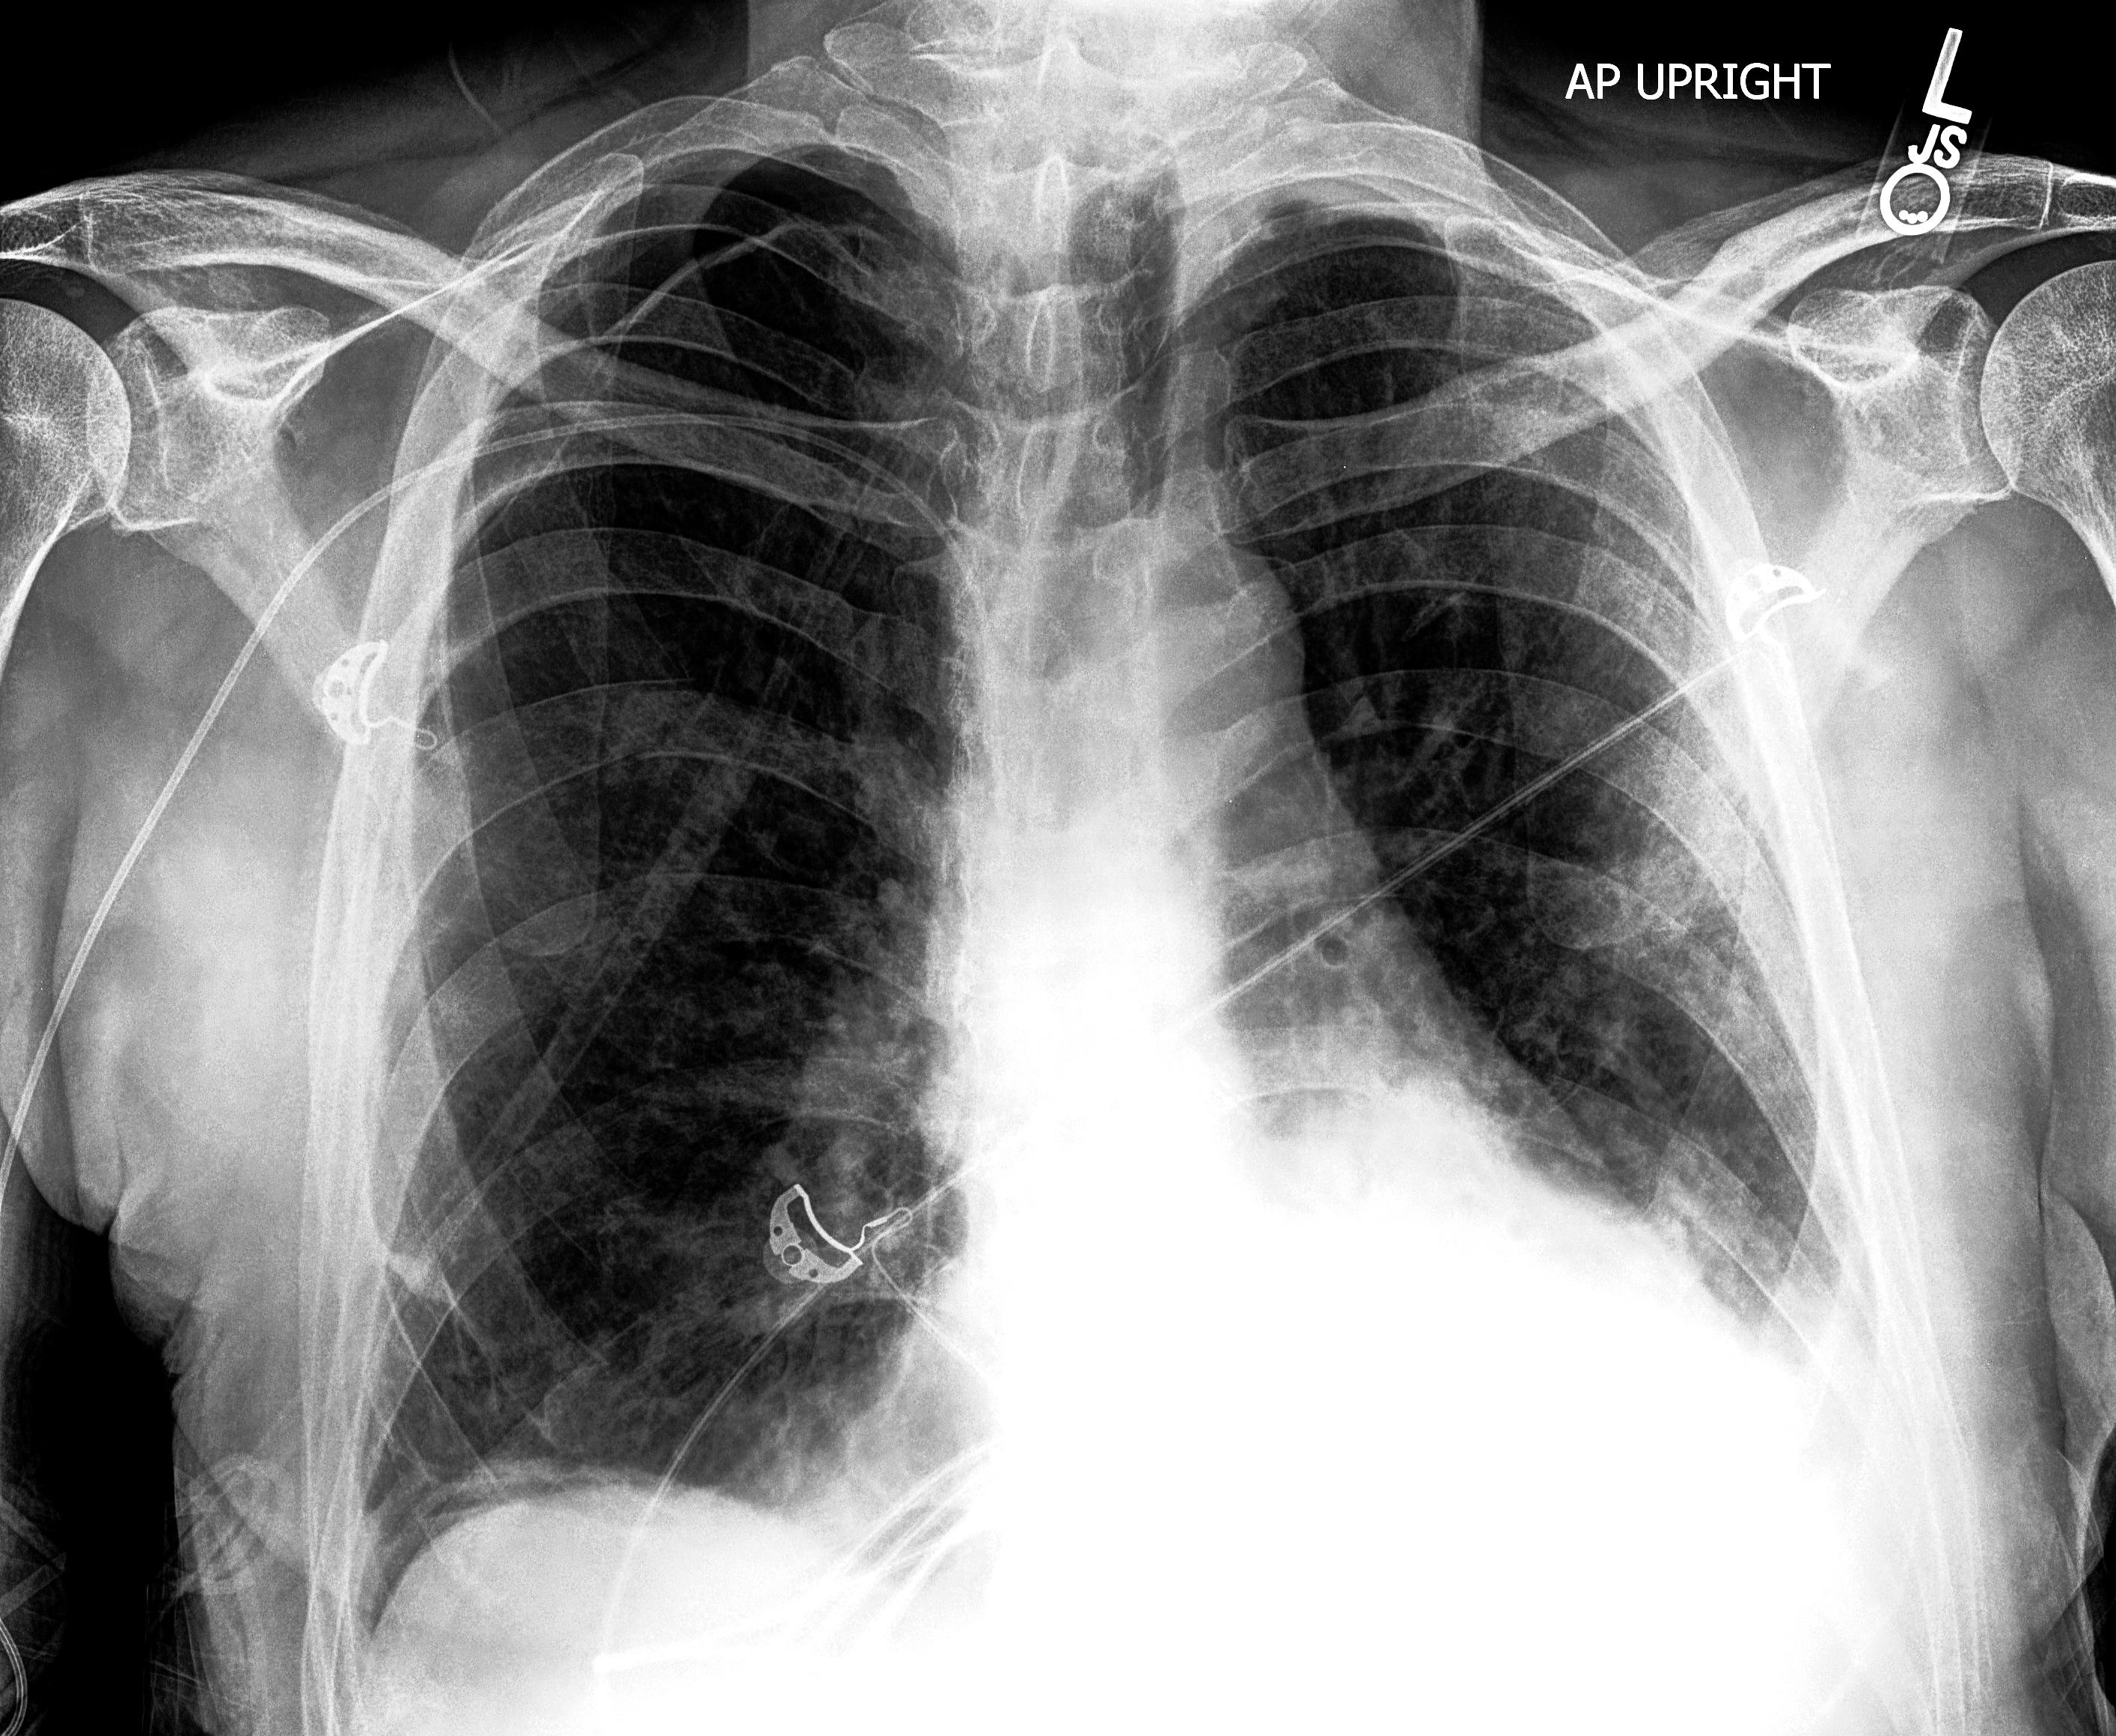Pleural Effusion: (1617, 1267, 1956, 1669)
